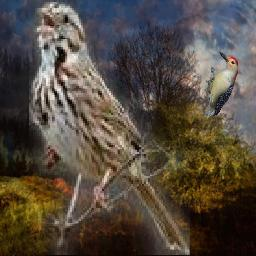Sparrow: (30, 0, 191, 255)
Woodpecker: (204, 52, 238, 117)
